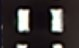COMP: (11, 4, 69, 37)
GAP: (16, 22, 62, 48)
